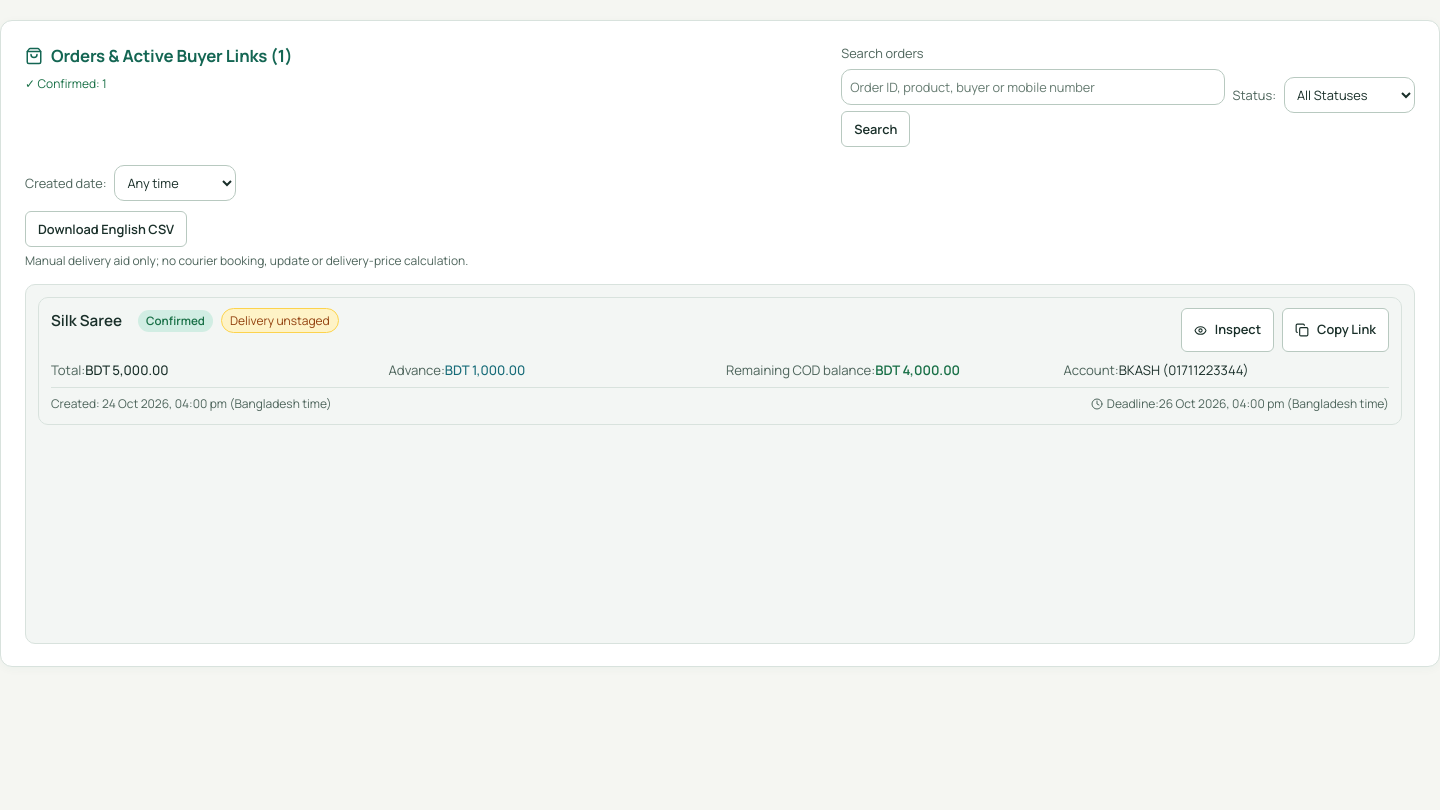
Scenario: Order Reconciliation and Review UI › reports list buyer-link clipboard failure (denied) and permits retry
What coordinates should you click on to do the following:
click the button "Copy Link"
I would click on:
 (1336, 330)
Its box is left=1282, top=308, right=1389, bottom=352.
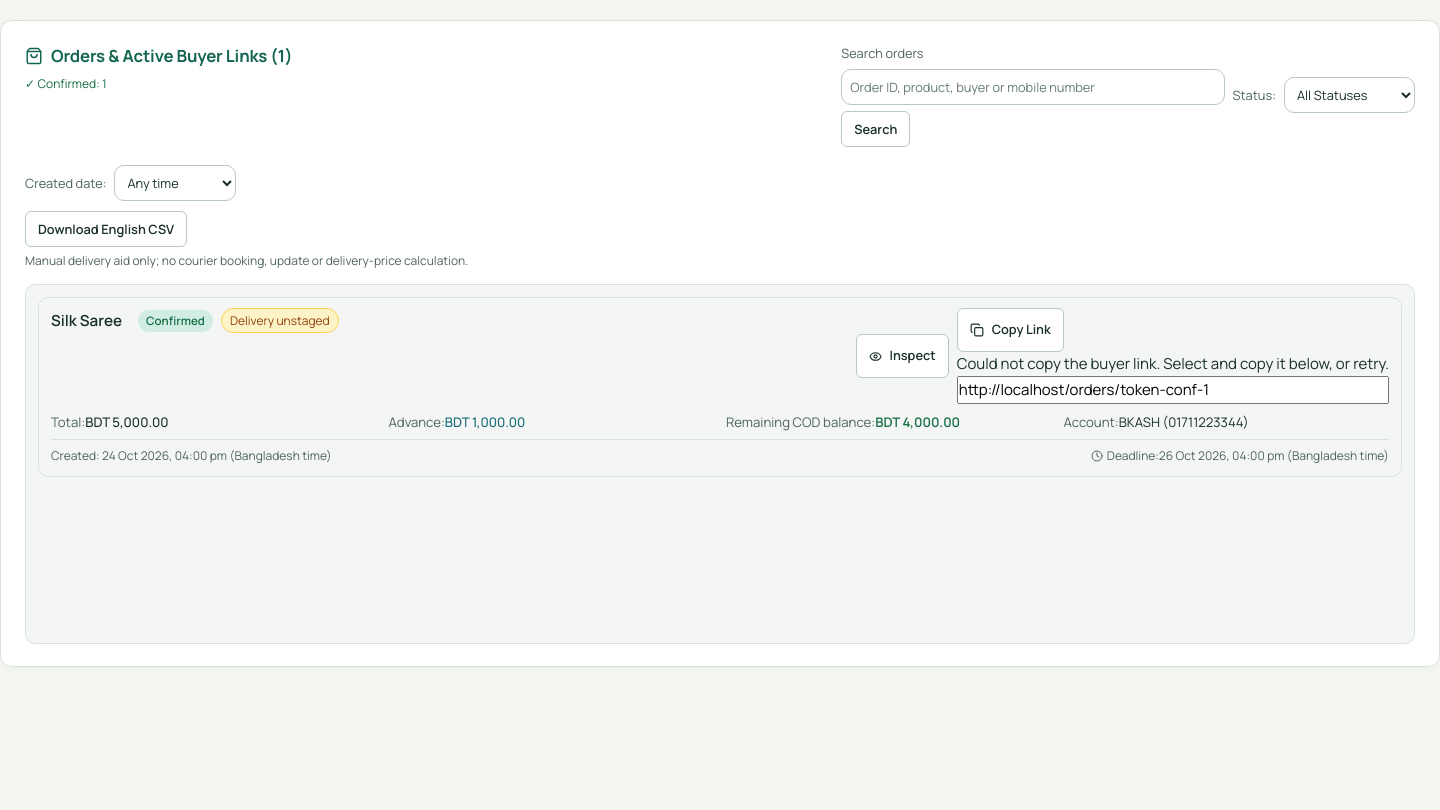
Check: the text "Copied" is not shown
Check: the message "Could not copy the buyer link. Select and copy it below, or retry." is shown, box left=957, top=352, right=1389, bottom=404
What coordinates should you click on to do the following:
click the button "Copy Link"
I would click on:
 (1010, 330)
Its box is left=957, top=308, right=1064, bottom=352.
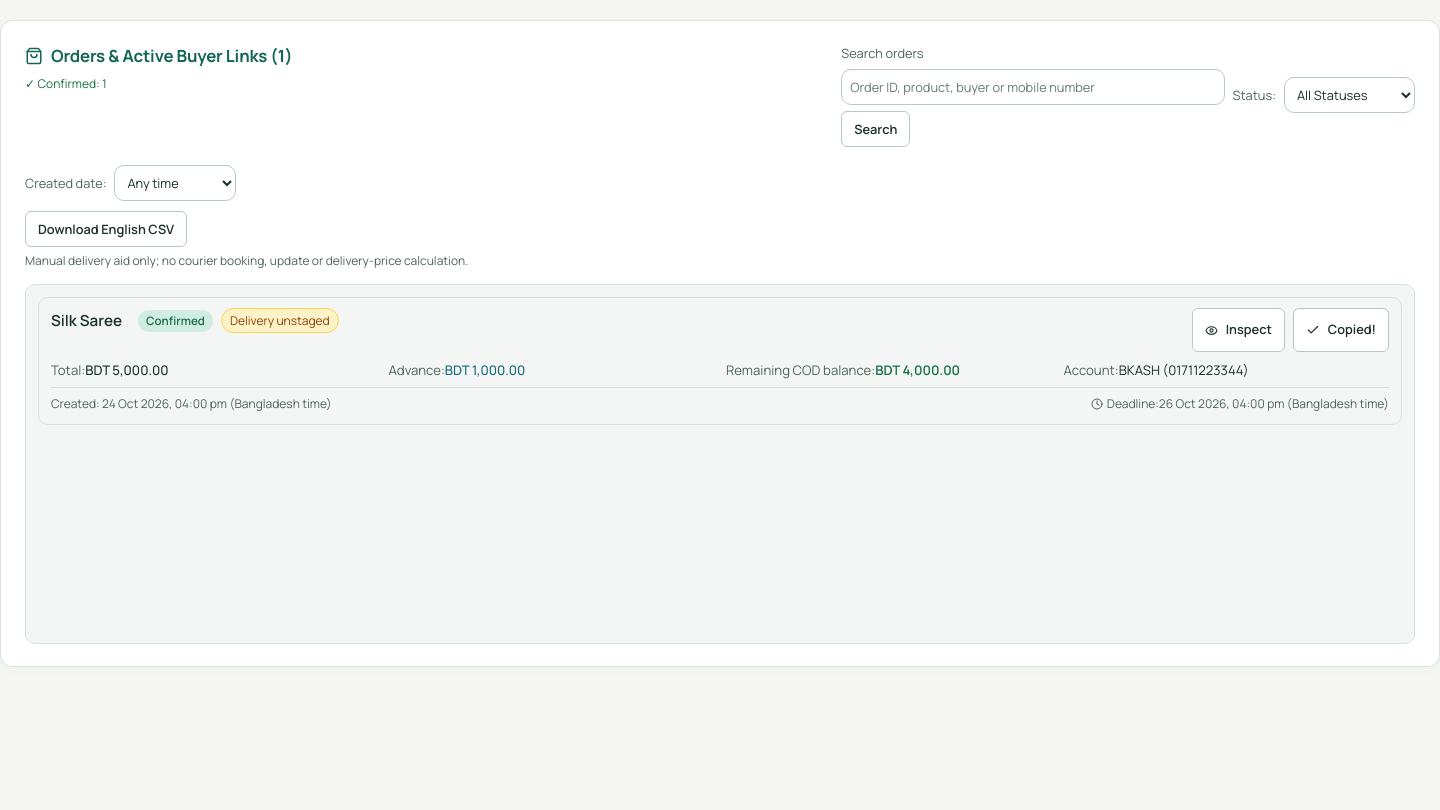
Check: the text "Copied" is shown, box left=1328, top=320, right=1376, bottom=338
Check: the message "Could not copy the buyer link. Select and copy it below, or retry." is gone
